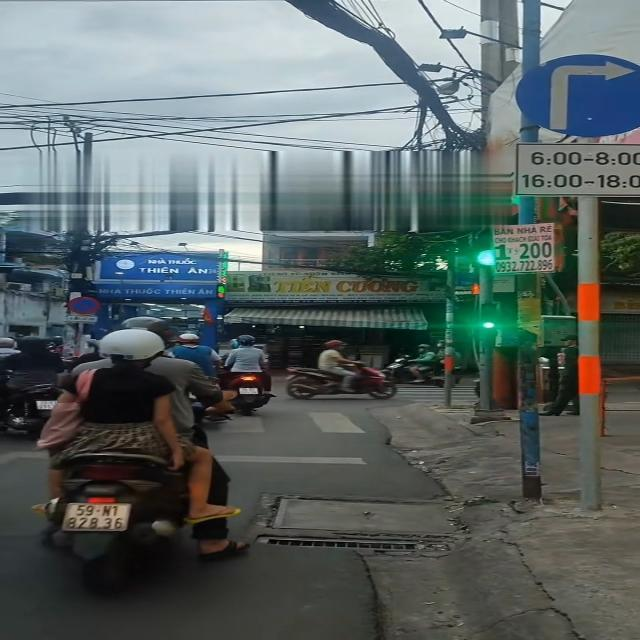301d-cac-xe-chi-duoc-re-phai-2: (510, 52, 640, 136)
